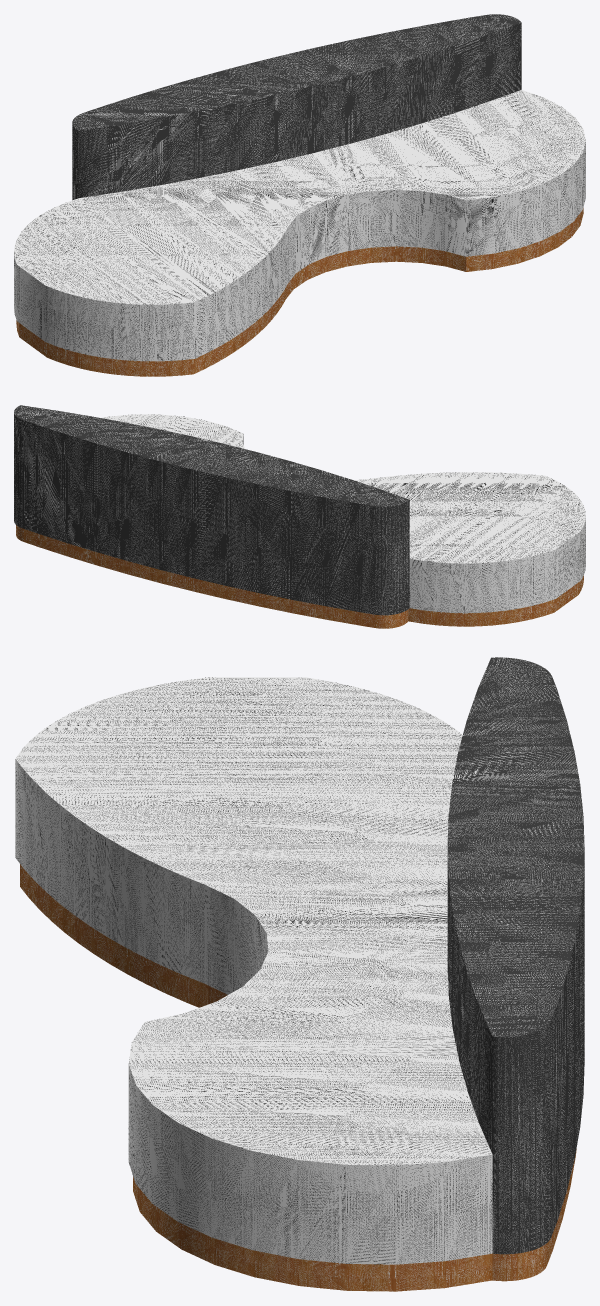
The picture shows the model from 3 angles, top to bottom: view 1: azimuth 30°, elevation 25°; view 2: azimuth 150°, elevation 25°; view 3: azimuth 270°, elevation 25°; orthographic projection. The views are drawn at different scales.
Parts seen in each view (by area): view 1: SketchUp (×3); view 2: SketchUp (×3); view 3: SketchUp (×3).
Part boxes in pixels (x1,y1,x2,y2): SketchUp (×3): (14,14,585,376); SketchUp (×3): (14,405,585,628); SketchUp (×3): (15,657,584,1291).
Bounding box in the file's own units: 287 × 141 × 67.32.
5 materials, 1 textured.
